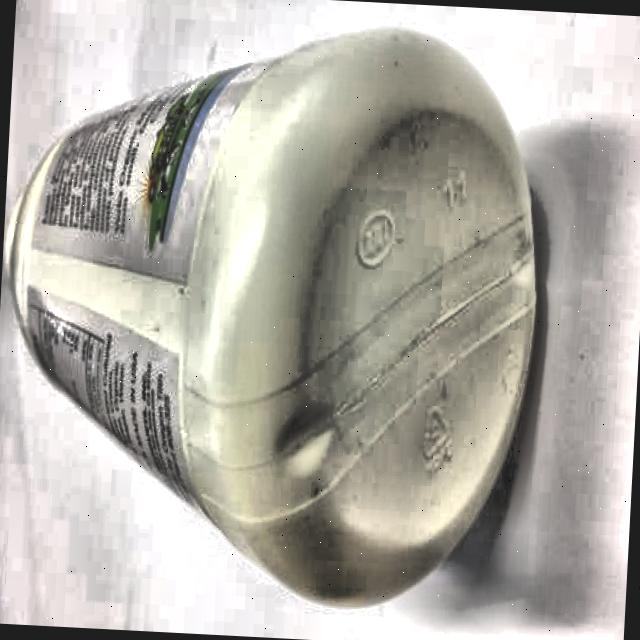plastic: (1, 9, 546, 622)
